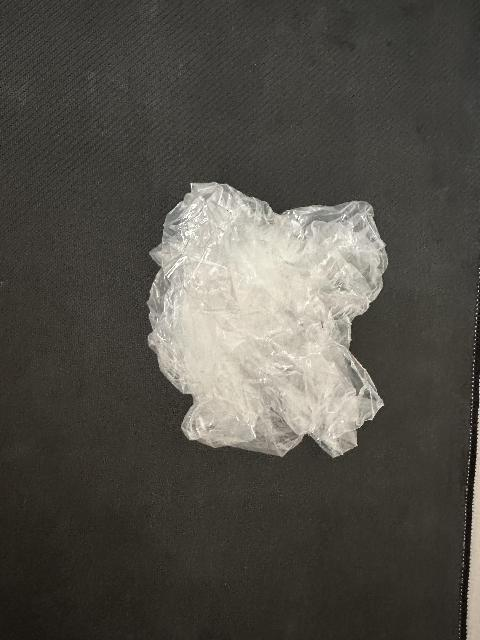Plastik: (157, 183, 389, 451)
